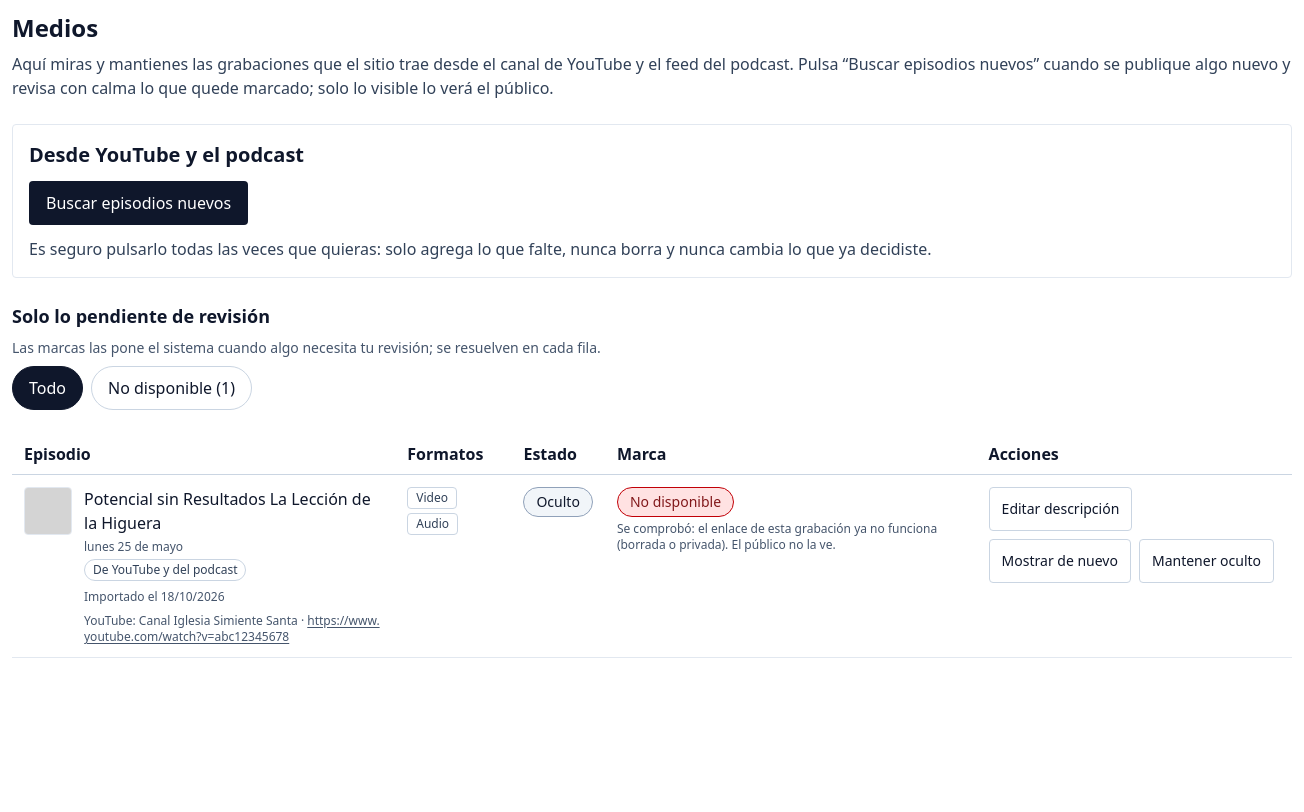
Test: MediosPage · listado del catálogo (US3, ux.md §4.3/§5.b) › la marca «No disponible» ofrece «Mantener oculto» directo y resuelve su eje
Expected: the table is shown, top-left (12, 434), bottom-right (1292, 658)
Expected: the text "Oculto" is shown, top-left (523, 487), bottom-right (593, 517)
Click the button "Mantener oculto": (1207, 561) top-left (1139, 539), bottom-right (1274, 583)
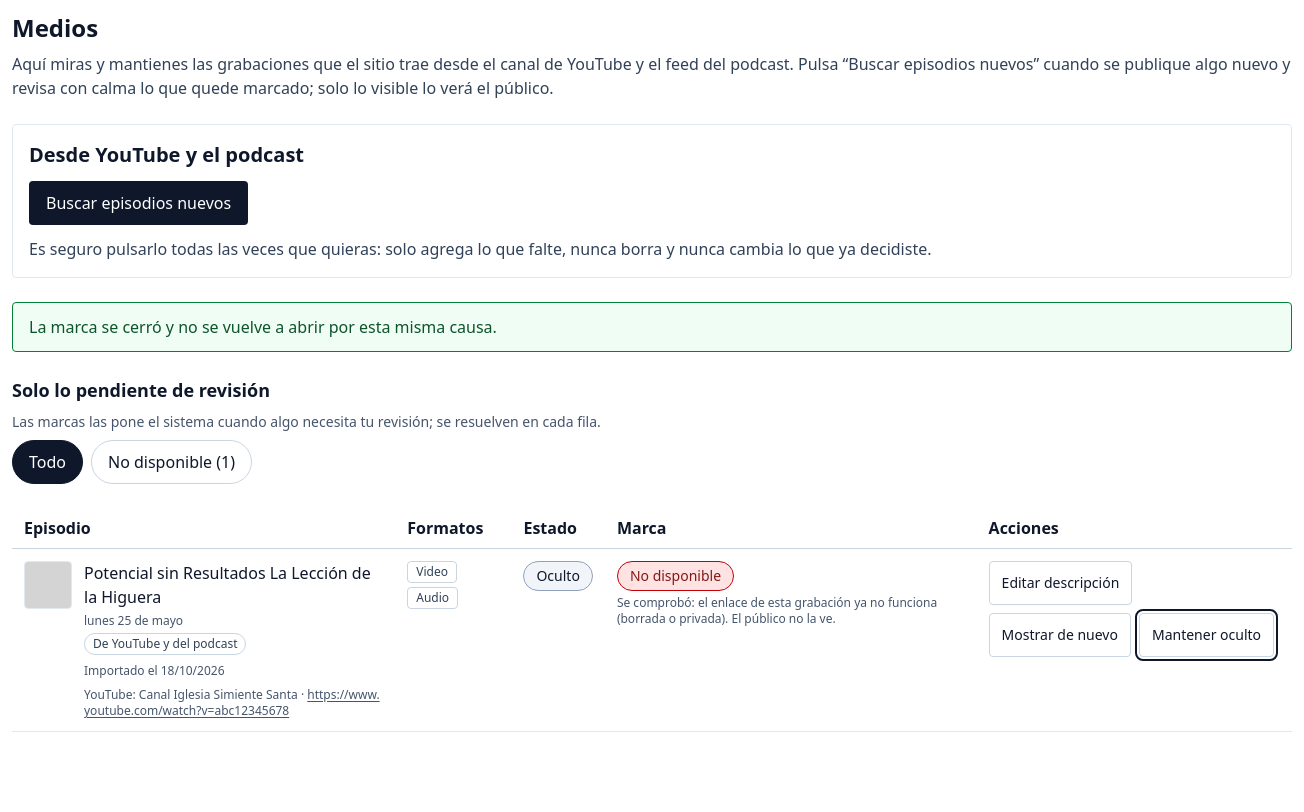
Result: the text "La marca se cerró y no se vuelve a abrir por esta misma causa." is shown at top-left (12, 302), bottom-right (1292, 352)
